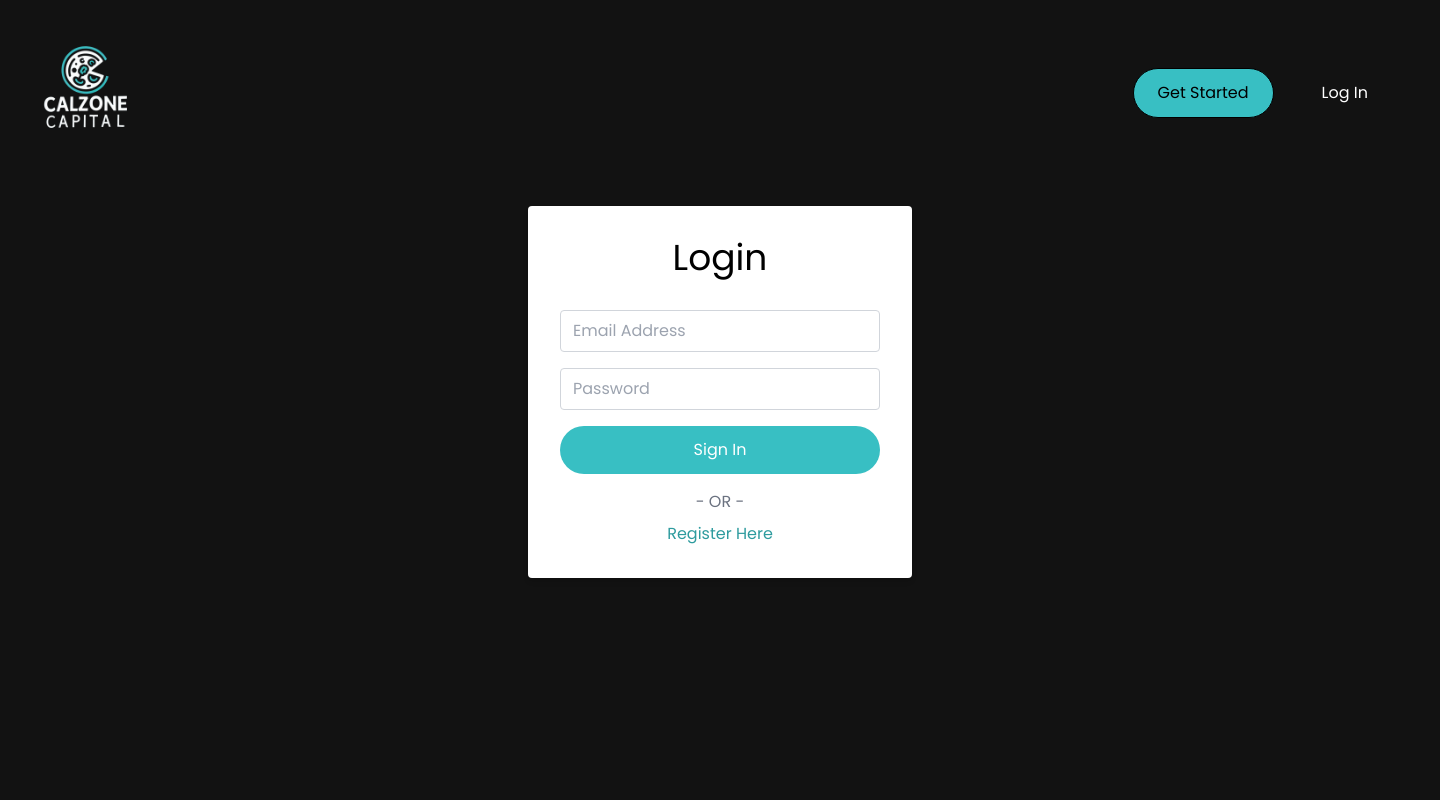
Login Form Tests › shows error message on invalid credentials
# Attempt to log in with invalid credentials
In the field with placeholder "Email Address": x=720, y=331 [560, 310, 880, 352], type "admin@email.com"
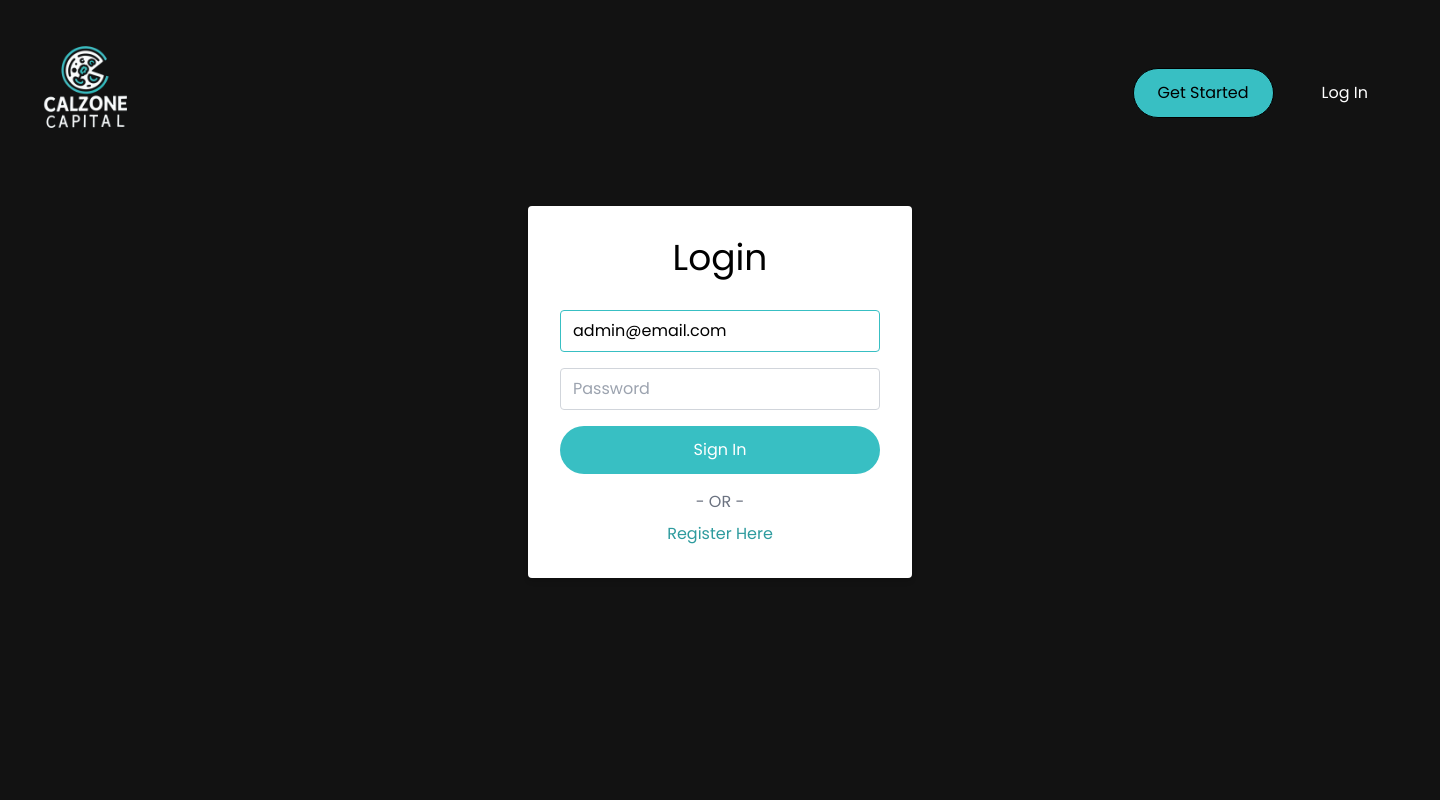
In the password field with placeholder "Password": x=720, y=389 [560, 368, 880, 410], type "wrongpassword"
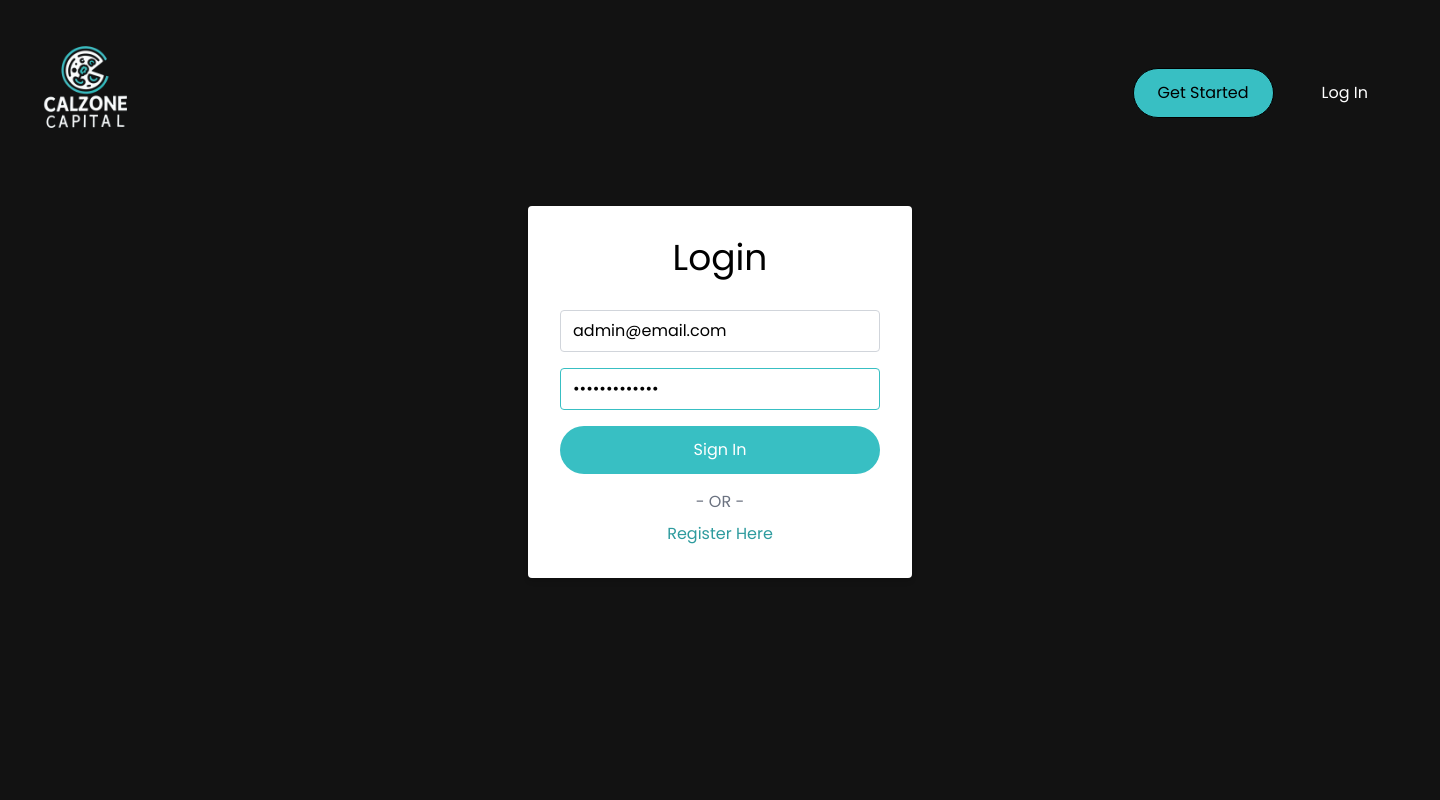
Click the button "Sign In": x=720, y=450 [560, 426, 880, 474]
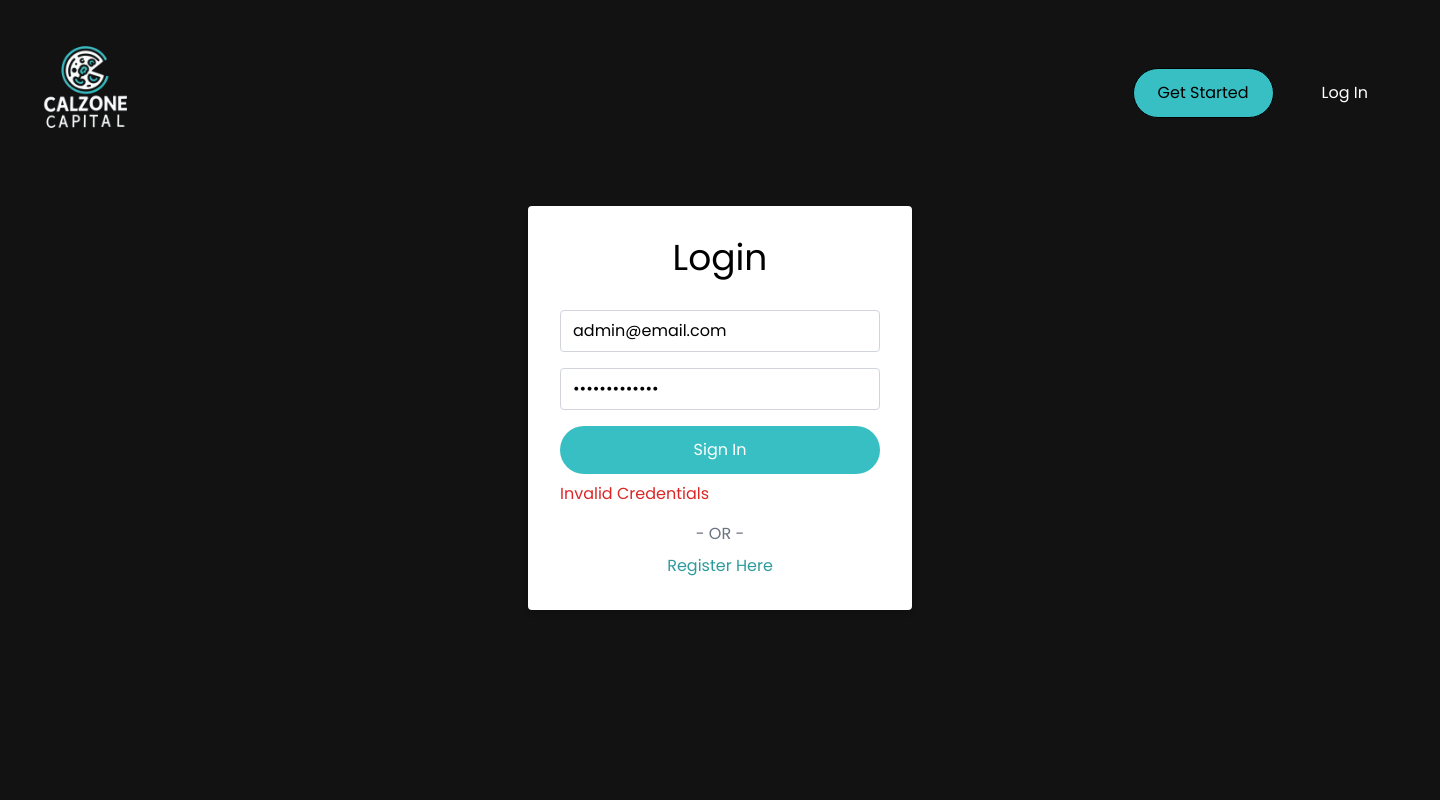
Result: the text "Invalid Credentials" is shown at [560, 482, 709, 505]
